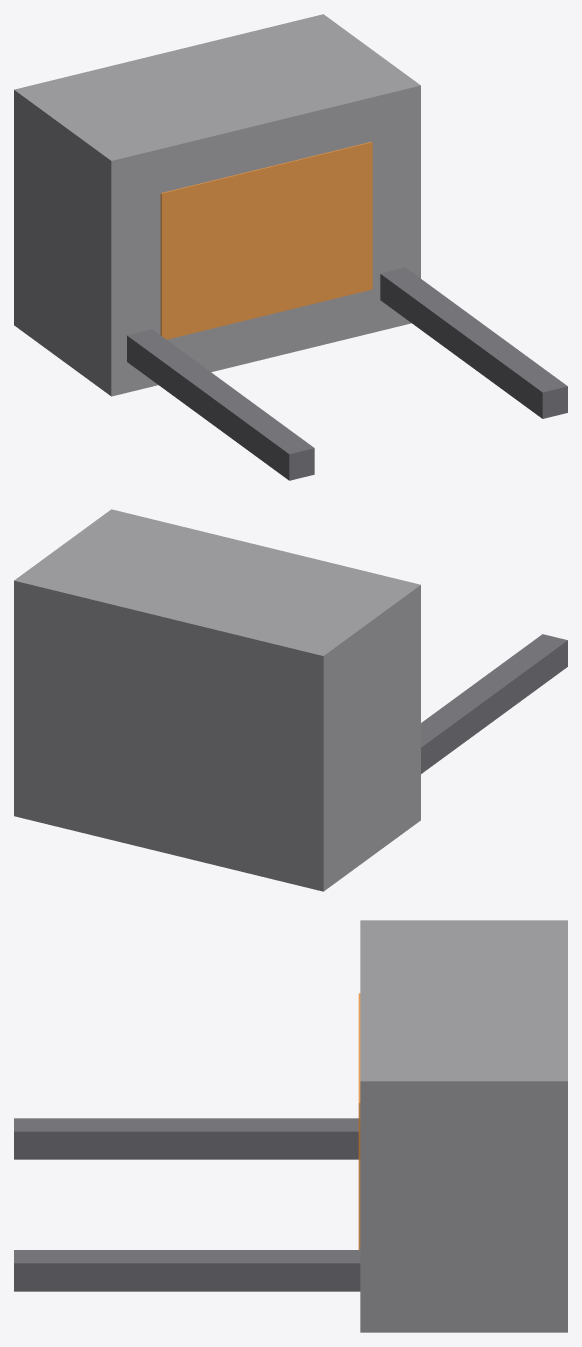
File: shop_forge_station.glb
The picture shows the model from 3 angles, top to bottom: view 1: azimuth 30°, elevation 25°; view 2: azimuth 150°, elevation 25°; view 3: azimuth 270°, elevation 25°; orthographic projection. The views are drawn at different scales.
Parts seen in each view (by area): view 1: forge_body, coals, chimney_r, chimney_l; view 2: forge_body, chimney_l; view 3: forge_body, chimney_r, chimney_l, coals.
Boxes of the visible parts, x1=… form: forge_body: x1=14, y1=14, x2=420, y2=396; coals: x1=160, y1=141, x2=372, y2=339; chimney_r: x1=380, y1=267, x2=567, y2=418; chimney_l: x1=127, y1=329, x2=314, y2=480; forge_body: x1=14, y1=509, x2=420, y2=891; chimney_l: x1=421, y1=634, x2=567, y2=773; forge_body: x1=360, y1=920, x2=567, y2=1332; chimney_r: x1=14, y1=1250, x2=360, y2=1291; chimney_l: x1=14, y1=1118, x2=358, y2=1159; coals: x1=358, y1=993, x2=360, y2=1249.
Bounding box in the file's own units: 2.2 × 1.6 × 3.2.
